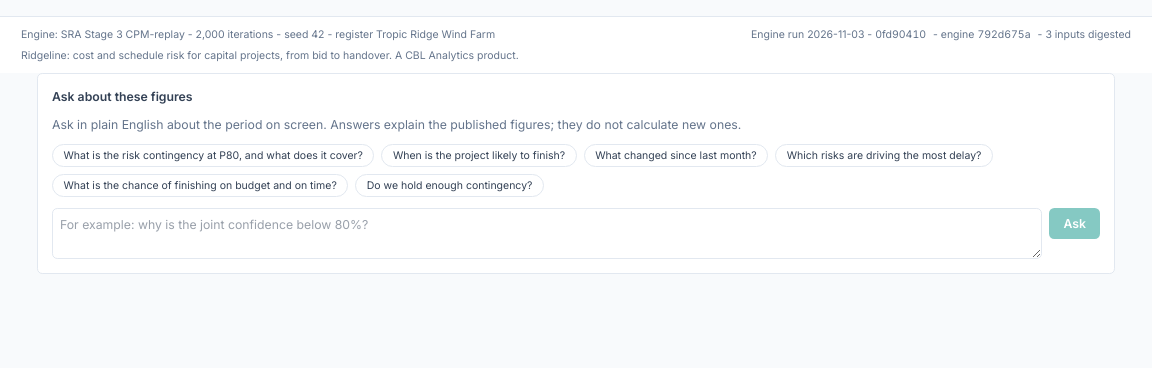
the Ask box › turns a service failure or rate limit into a message, not a crash
The image size is (1152, 368).
Click the button "What changed since last month?" at point(676, 156), box x1=584 y1=144 x2=768 y2=167
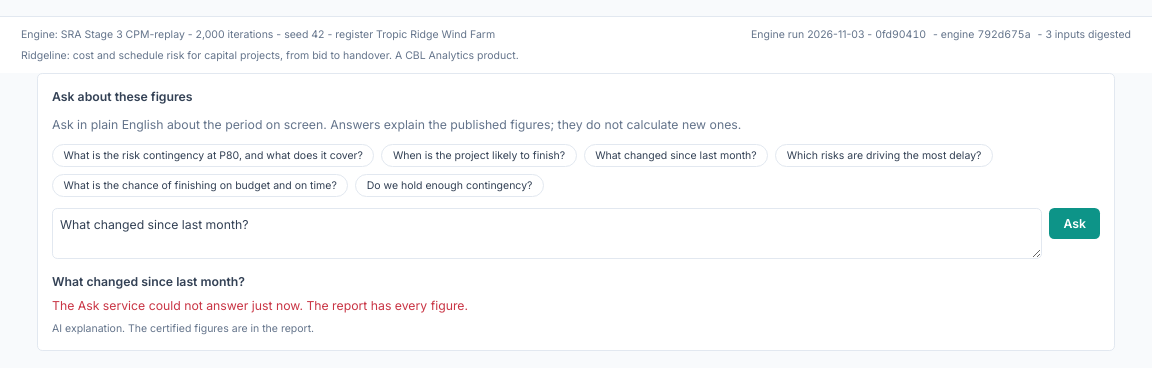
Expected: the text "could not answer just now" is shown, x1=52 y1=298 x2=468 y2=313
